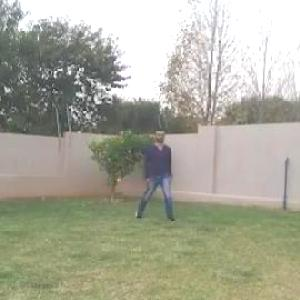follow: (149, 127, 172, 221)
